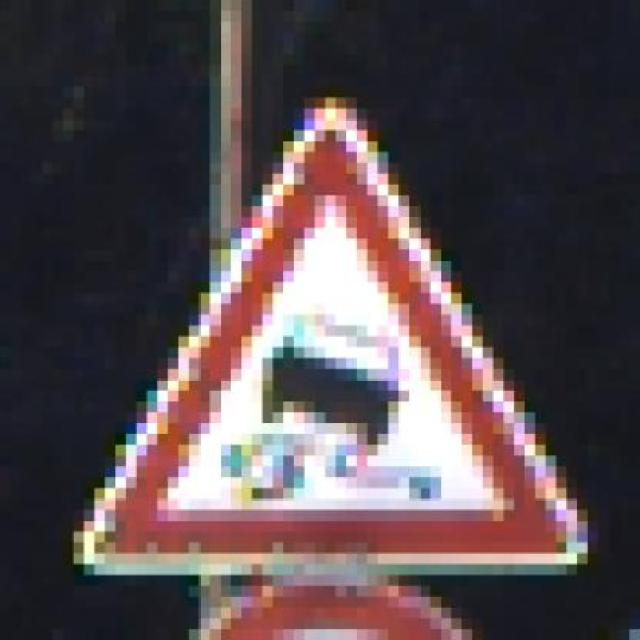Slippery Road Ahead: (62, 98, 608, 564)
